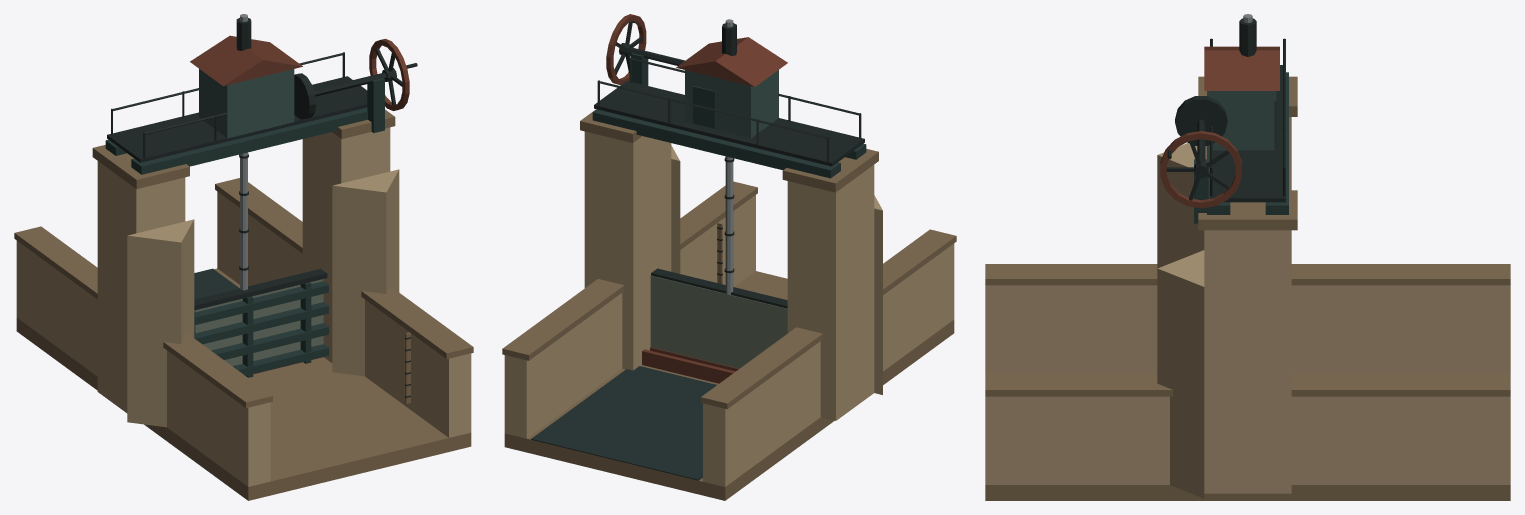
File: works_sluice.glb
The picture shows the model from 3 angles, left to right: view 1: azimuth 30°, elevation 25°; view 2: azimuth 150°, elevation 25°; view 3: azimuth 270°, elevation 25°; orthographic projection. The views are drawn at different scales.
Visible parts, largest first — view 1: Base, Leaf, Handwheel; view 2: Base, Leaf, Handwheel; view 3: Base, Handwheel.
Boxes of the visible parts, x1,y1,x2,y2 form: Base: [14, 18, 473, 500]; Leaf: [194, 14, 328, 377]; Handwheel: [369, 38, 417, 110]; Base: [502, 23, 956, 500]; Leaf: [650, 19, 787, 371]; Handwheel: [606, 14, 646, 85]; Base: [985, 18, 1510, 500]; Handwheel: [1160, 131, 1241, 208].
Size of the model in its own units: 12.3 by 16 by 18.
